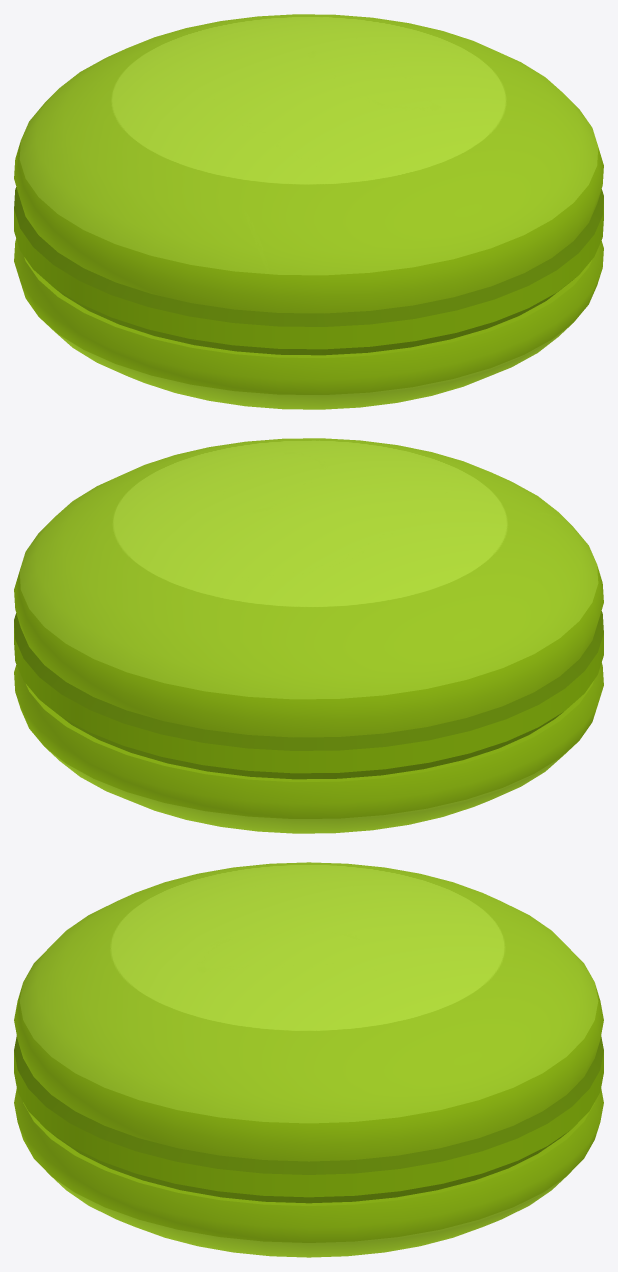
The model's file is Green_Cookie.glb.
3 views of the same model, one above another, from view 1: azimuth 30°, elevation 25°; view 2: azimuth 150°, elevation 25°; view 3: azimuth 270°, elevation 25° (orthographic).
Parts seen in each view (by area): view 1: CV6_1_Cookie_V21_0; view 2: CV6_1_Cookie_V21_0; view 3: CV6_1_Cookie_V21_0.
Part boxes in pixels (x1,y1,x2,y2): CV6_1_Cookie_V21_0: (14,14,603,409); CV6_1_Cookie_V21_0: (14,438,603,833); CV6_1_Cookie_V21_0: (14,862,603,1257).
Size of the model in its own units: 12 by 6.1 by 12.
1 material, 1 textured.
